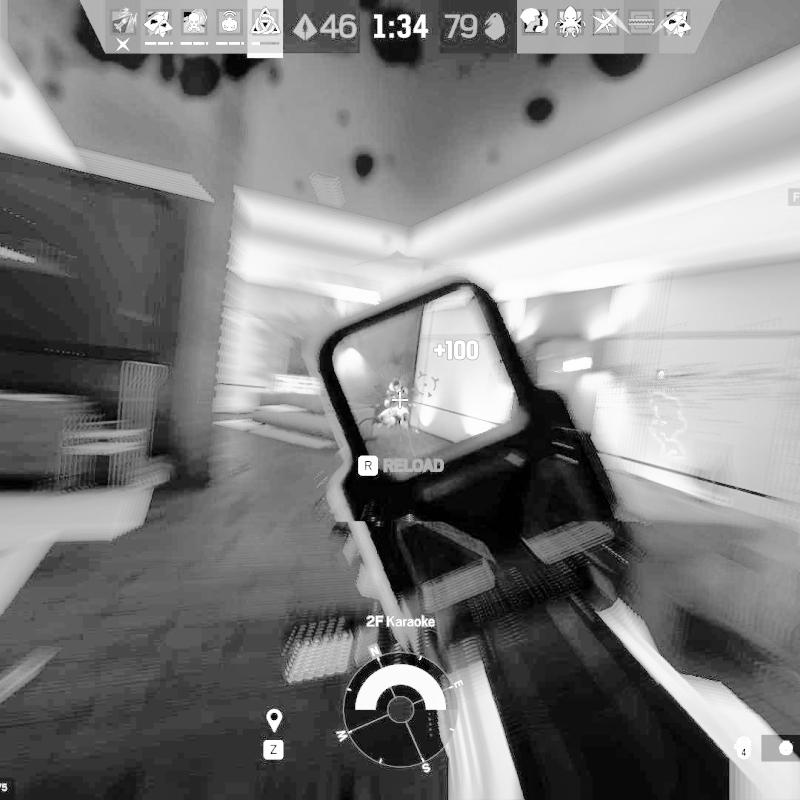Character: (378, 377, 412, 430)
Friend_label: (646, 367, 678, 399)
Head: (391, 378, 400, 389)
